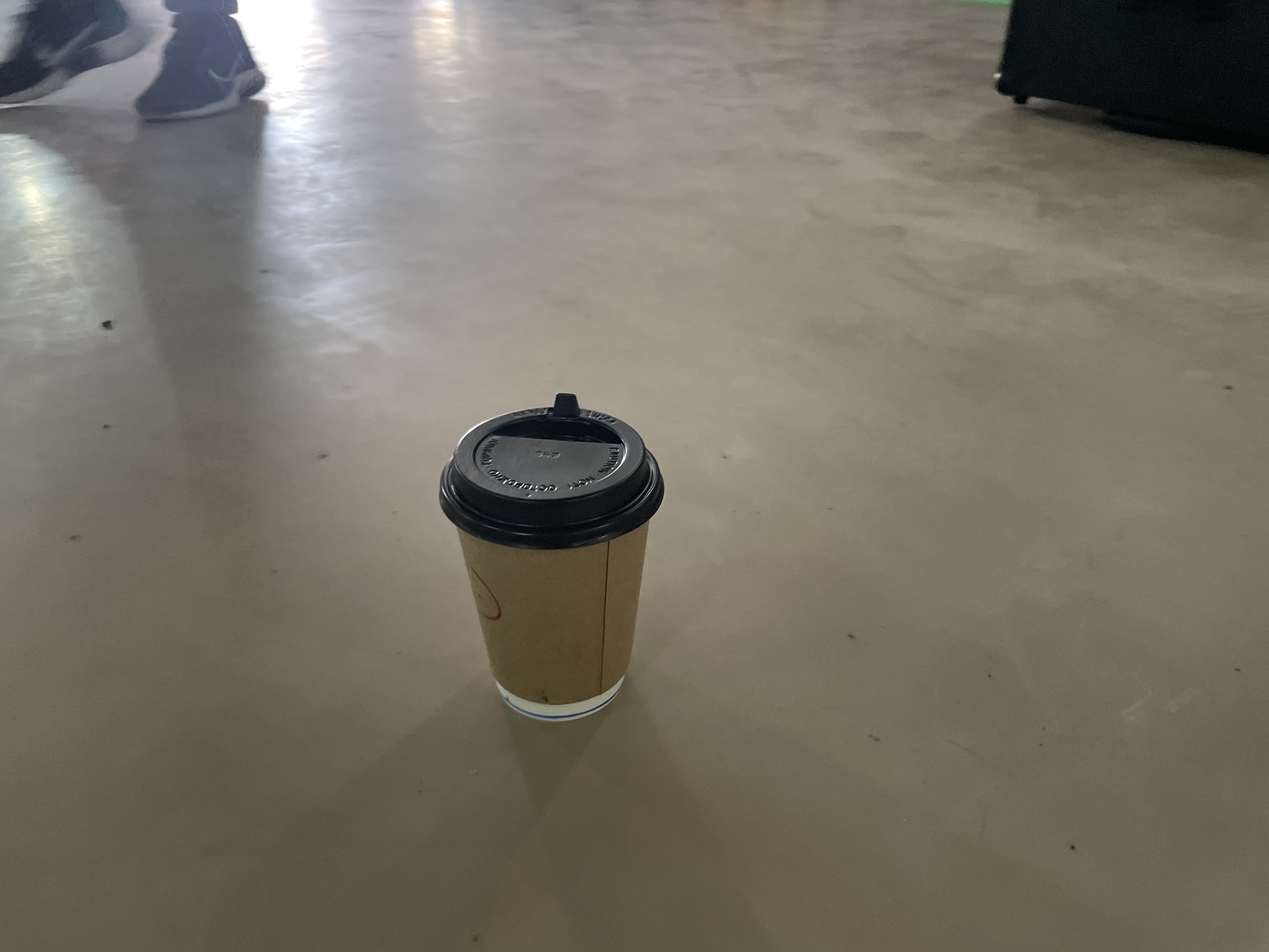cup: (438, 393, 665, 723)
